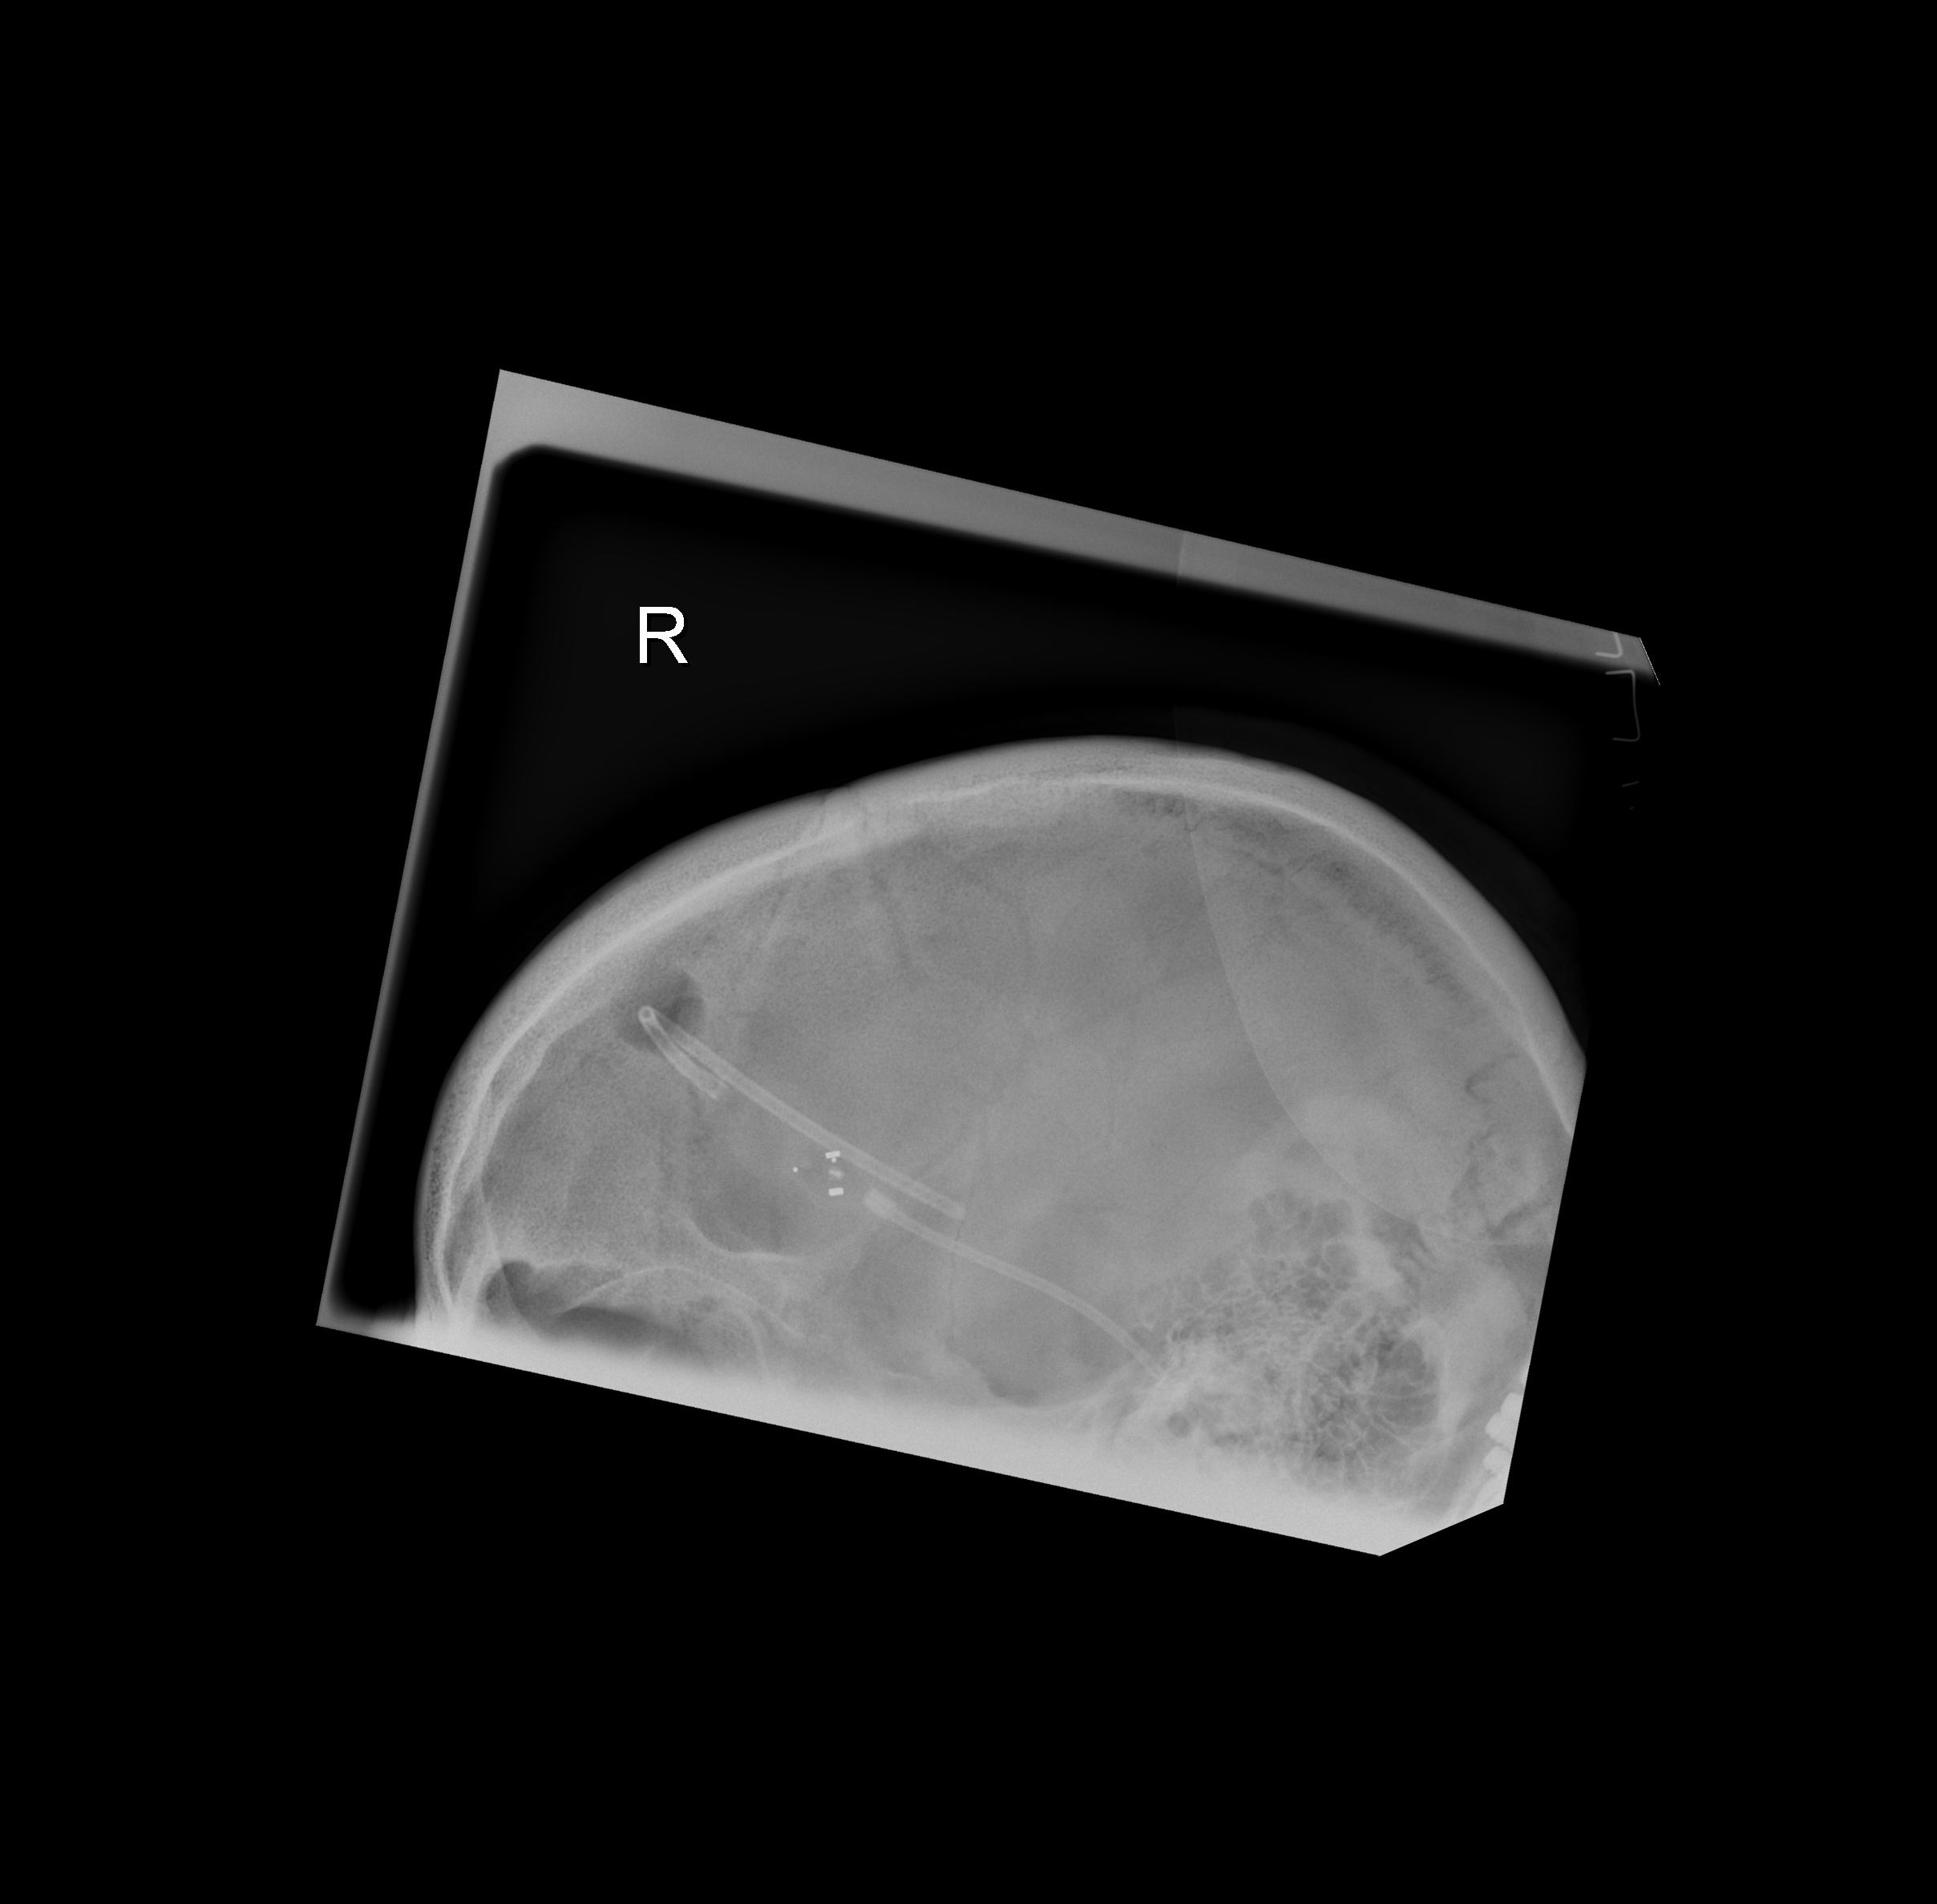Codman Certas: (786, 1132, 877, 1219)
